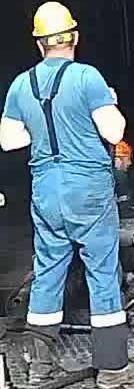helmet: (30, 0, 78, 44), (109, 140, 133, 164)
